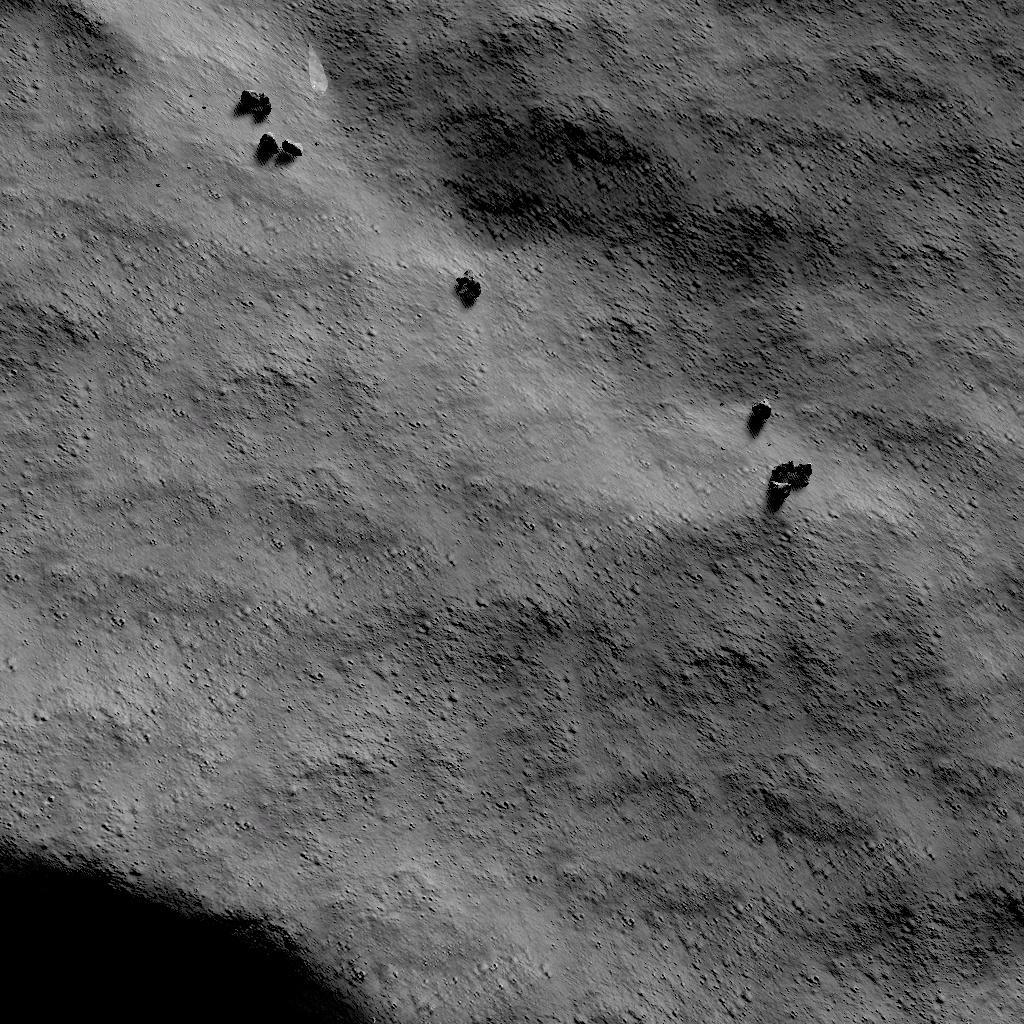Crater: (0, 788, 395, 1024), (0, 0, 175, 377)
Plan surface: (0, 390, 728, 770), (605, 0, 1024, 356), (419, 792, 1024, 1024), (747, 520, 1024, 780), (832, 372, 1024, 510)
